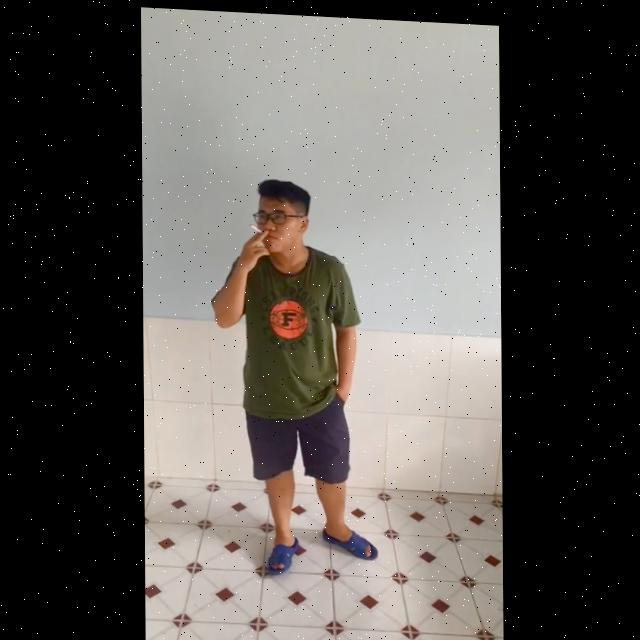cigarette: (249, 222, 262, 231)
